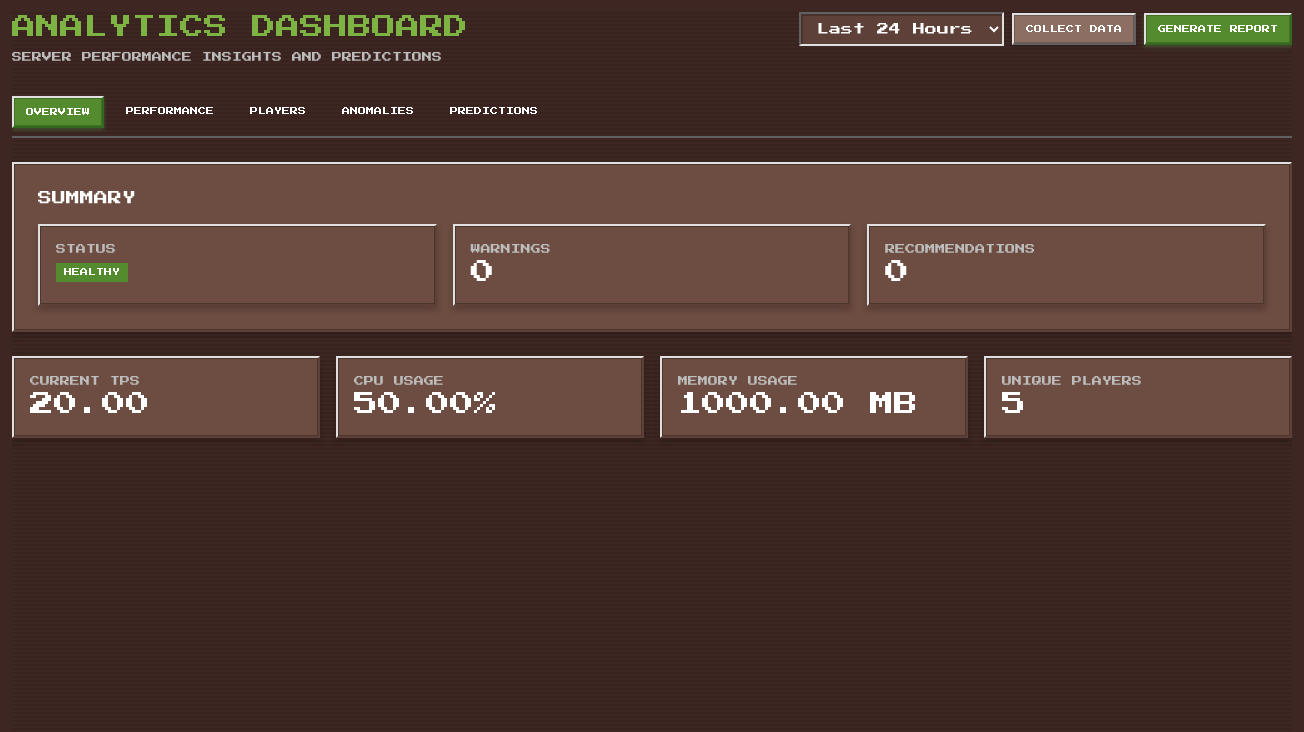
Test case: Analytics › switches to performance tab
Check: the heading "Summary" is shown, box [38, 191, 136, 205]
Click the button "PERFORMANCE". click: coordinates (170, 112)
box: [112, 96, 228, 128]
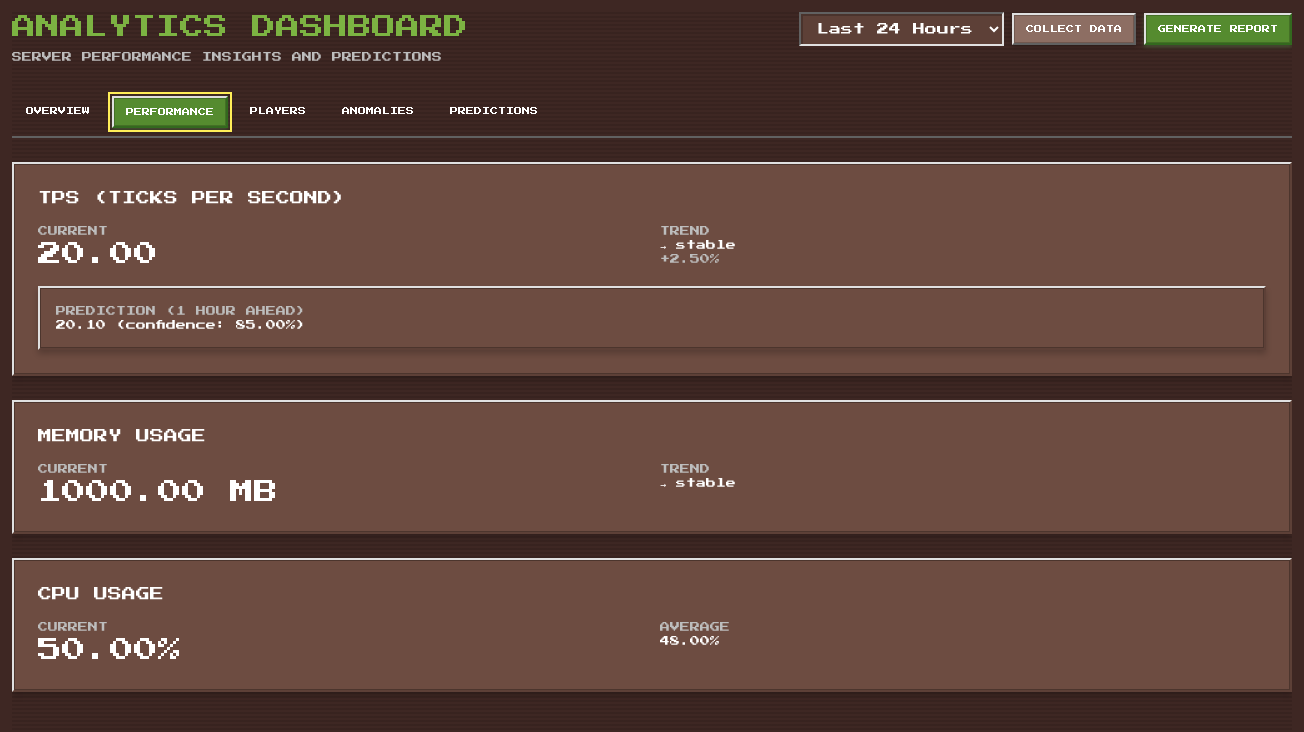
Check: the heading "TPS (Ticks Per Second)" is shown, box [38, 191, 346, 205]
